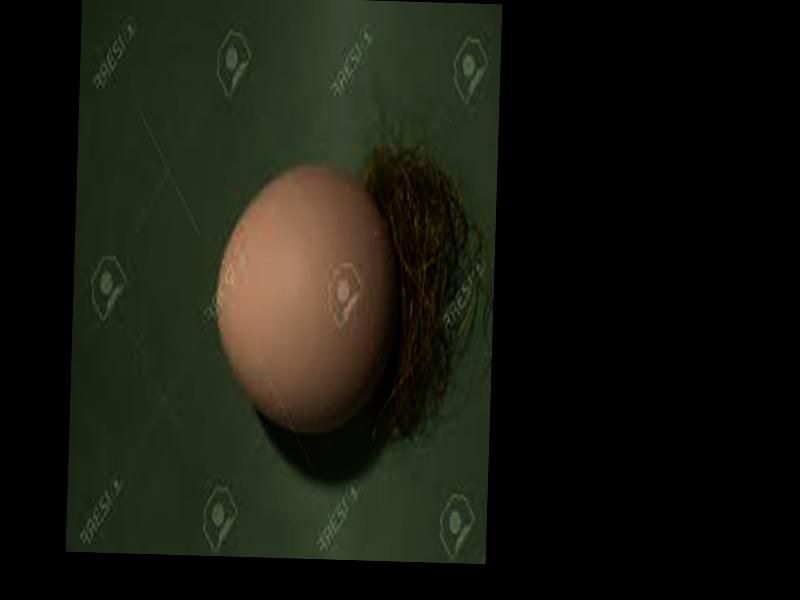Eggs: (211, 164, 399, 435)
